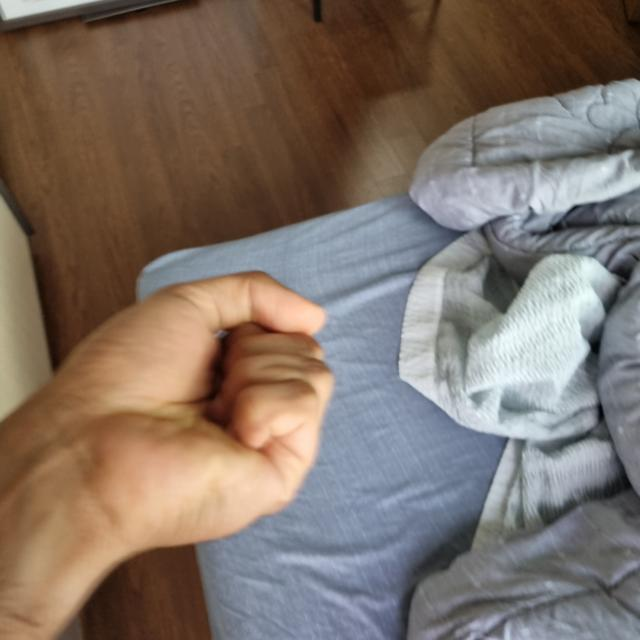Rock: (8, 274, 334, 554)
